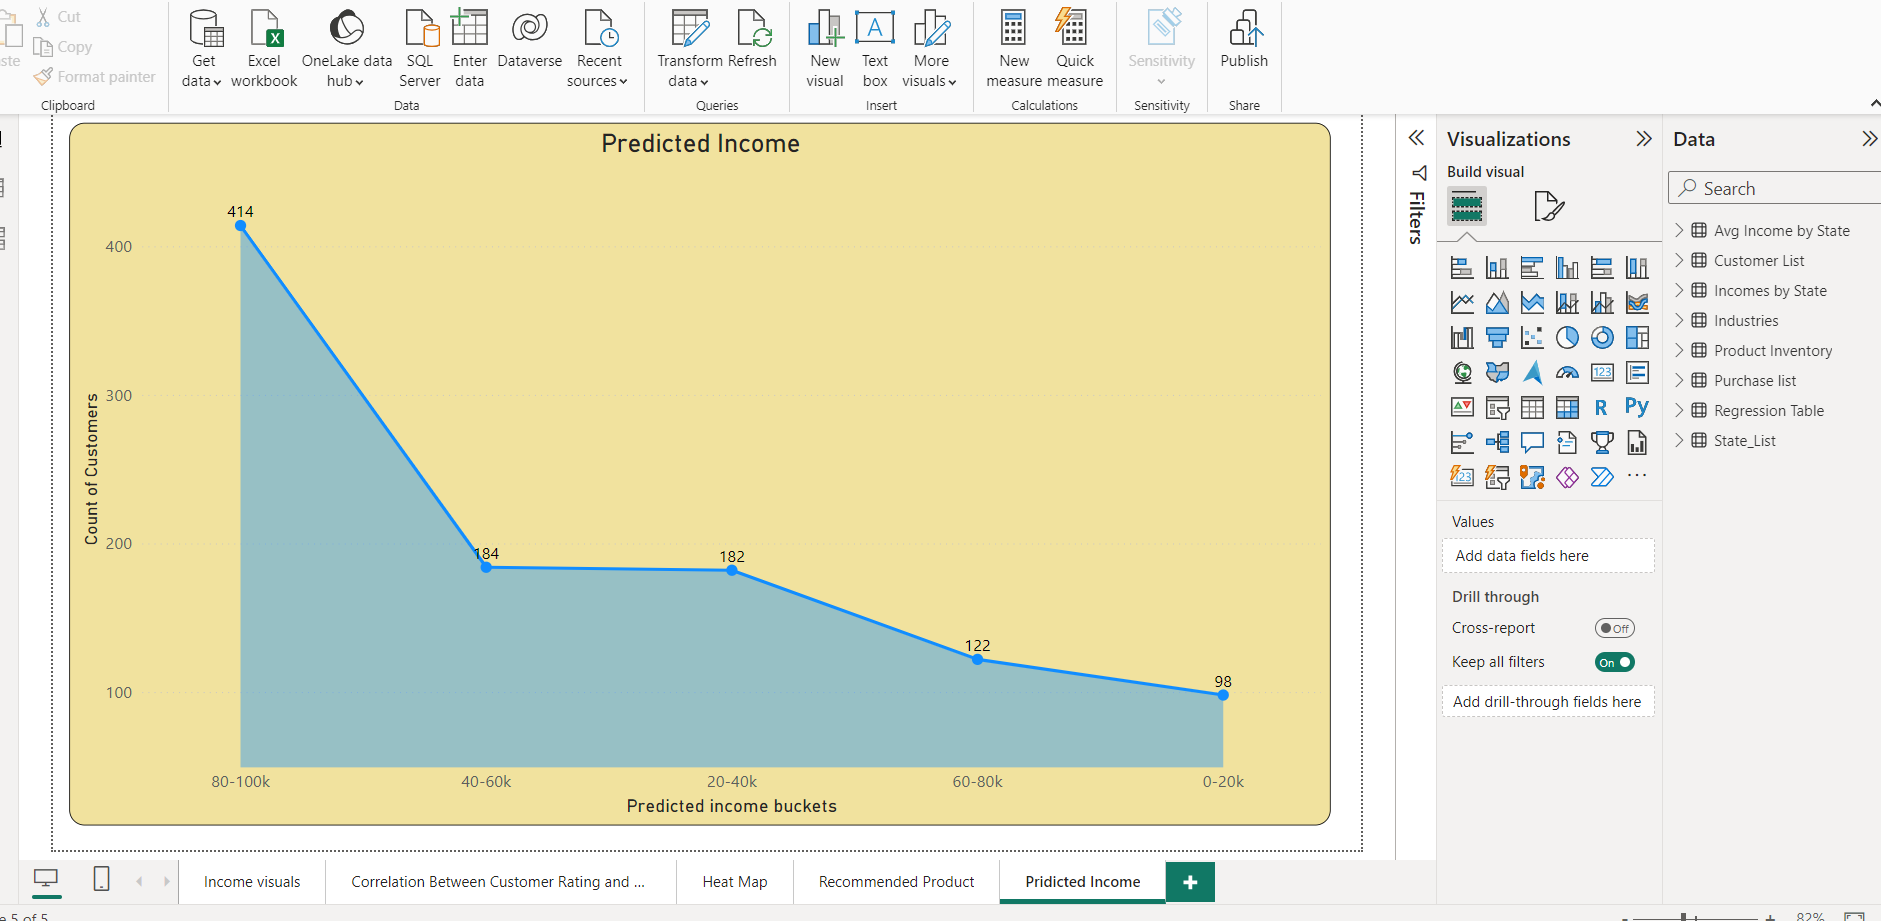

The dashboard page shown, as its layout file describes it:
{"tool":"powerbi","page":{"name":"Pridicted Income","canvas":[1280,720],"ordinal":4},"visuals":[{"type":"stackedAreaChart","title":"Predicted Income ","fields":{"Category":["Customer List.Buckets"],"Y":["CountNonNull(Customer List.Customer ID)"]},"box":[15.9,8.6,1233.4,687],"z":0}]}

Visuals, with their boxes on the page's 1280x720 design canvas (x1, y1, x2, y2). These are canvas units, not pixel positions in the 1881x921 screenshot, which may show the page scaled, cropped or inside an application window:
"Predicted Income " stackedAreaChart: bbox=[16, 9, 1249, 696]
